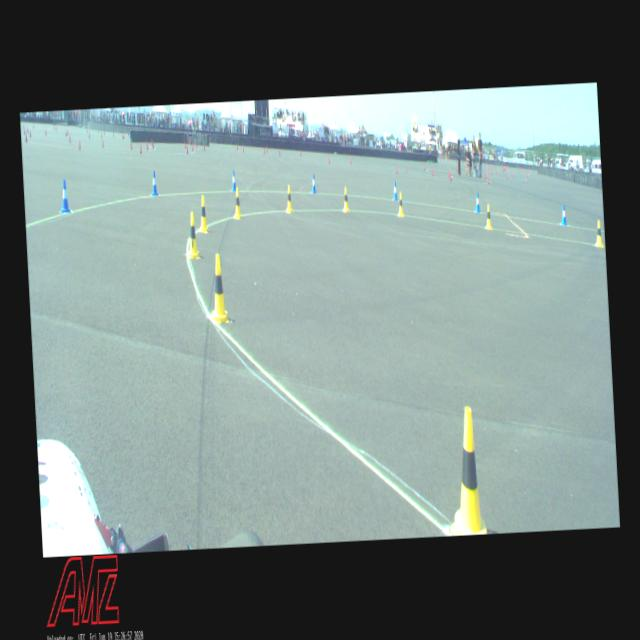blue_cone: (59, 179, 70, 213), (151, 170, 158, 196), (230, 171, 237, 191), (561, 204, 567, 226), (474, 192, 480, 212), (393, 182, 398, 200), (312, 174, 316, 193)
yellow_cone: (444, 407, 486, 536), (209, 254, 229, 322), (187, 212, 200, 258), (198, 195, 210, 233), (594, 220, 604, 248), (233, 188, 242, 218), (342, 186, 349, 212), (485, 204, 492, 228), (286, 185, 292, 212), (398, 192, 404, 216)
